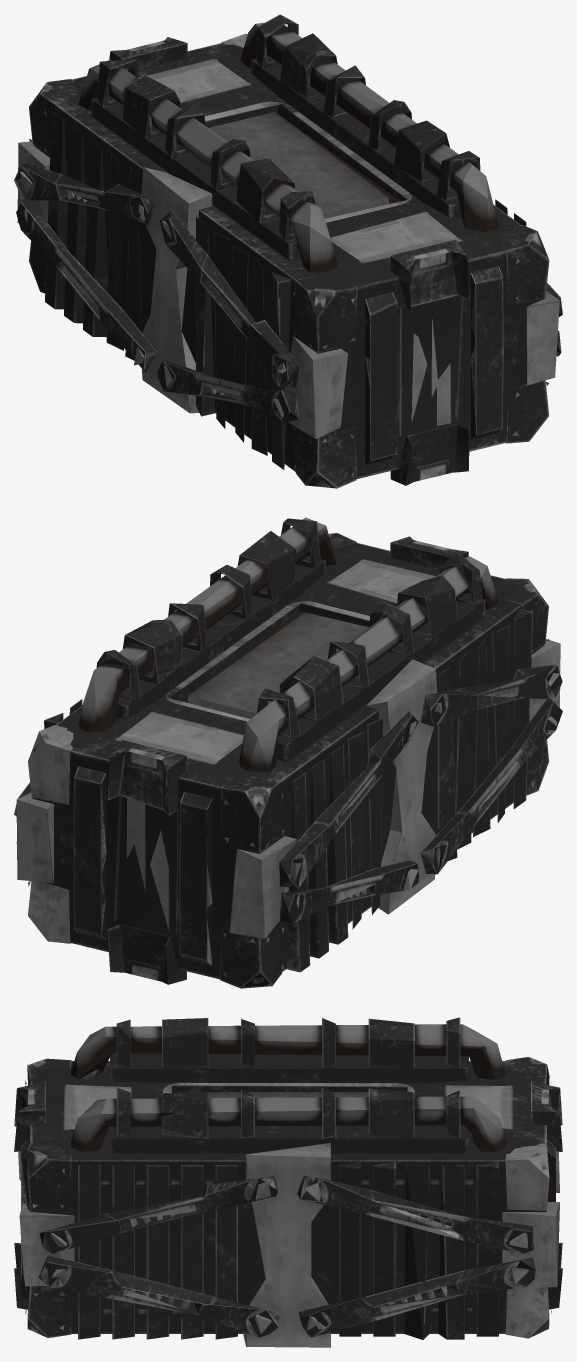
The model's file is GrayBox.fbx.
3 views of the same model, one above another, from view 1: azimuth 30°, elevation 25°; view 2: azimuth 150°, elevation 25°; view 3: azimuth 270°, elevation 25° (orthographic). The views are drawn at different scales.
Visible parts, largest first — view 1: Cube.014; view 2: Cube.014; view 3: Cube.014.
Boxes of the visible parts, x1=… form: Cube.014: x1=14, y1=14, x2=562, y2=488; Cube.014: x1=14, y1=517, x2=562, y2=988; Cube.014: x1=14, y1=1017, x2=562, y2=1347.
Bounding box in the file's own units: 19.52 × 18.14 × 36.99.
